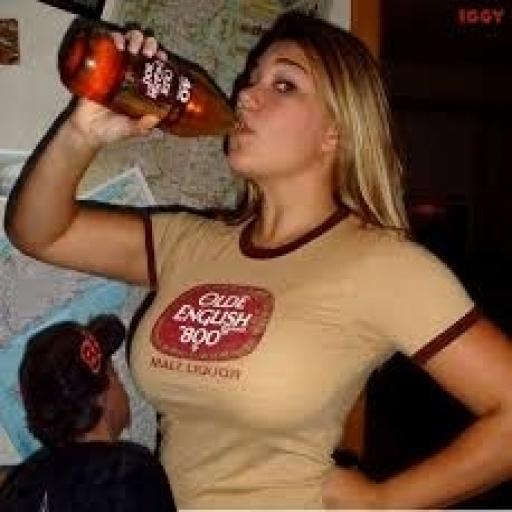drinking: (56, 16, 237, 138)
